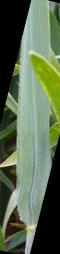Wheat: (21, 71, 51, 142), (17, 142, 36, 226), (34, 1, 51, 56)
